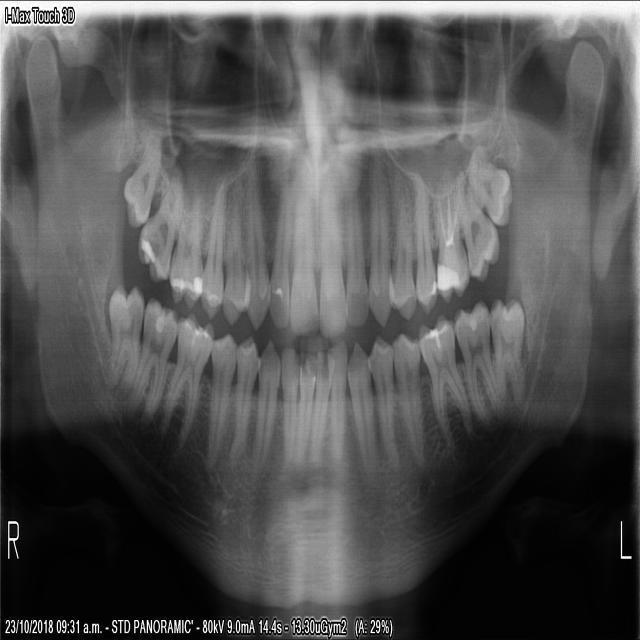LCD: (346, 335, 381, 490)
LCU: (366, 132, 390, 332)
LID: (325, 337, 346, 469)
LIU: (318, 157, 346, 341), (344, 164, 368, 330)
LMD: (416, 310, 475, 456), (453, 293, 503, 433), (489, 292, 526, 407)
LMU: (431, 170, 470, 307), (458, 168, 501, 286), (467, 142, 514, 228)
LPMD: (368, 328, 402, 473), (392, 327, 426, 468)
LPMU: (392, 171, 416, 323), (413, 170, 437, 318)
RCD: (250, 335, 278, 479)
RCU: (245, 148, 268, 334)
RID: (294, 348, 315, 470), (279, 342, 297, 474)
RIU: (287, 163, 317, 339), (268, 164, 294, 330)
RMD: (120, 291, 178, 430), (155, 311, 212, 449), (102, 278, 143, 391)
RMU: (132, 157, 182, 286), (167, 160, 202, 310), (121, 125, 163, 229)
RPMD: (202, 330, 235, 471), (225, 332, 257, 469)
RPMU: (221, 159, 244, 327), (199, 173, 225, 320)
